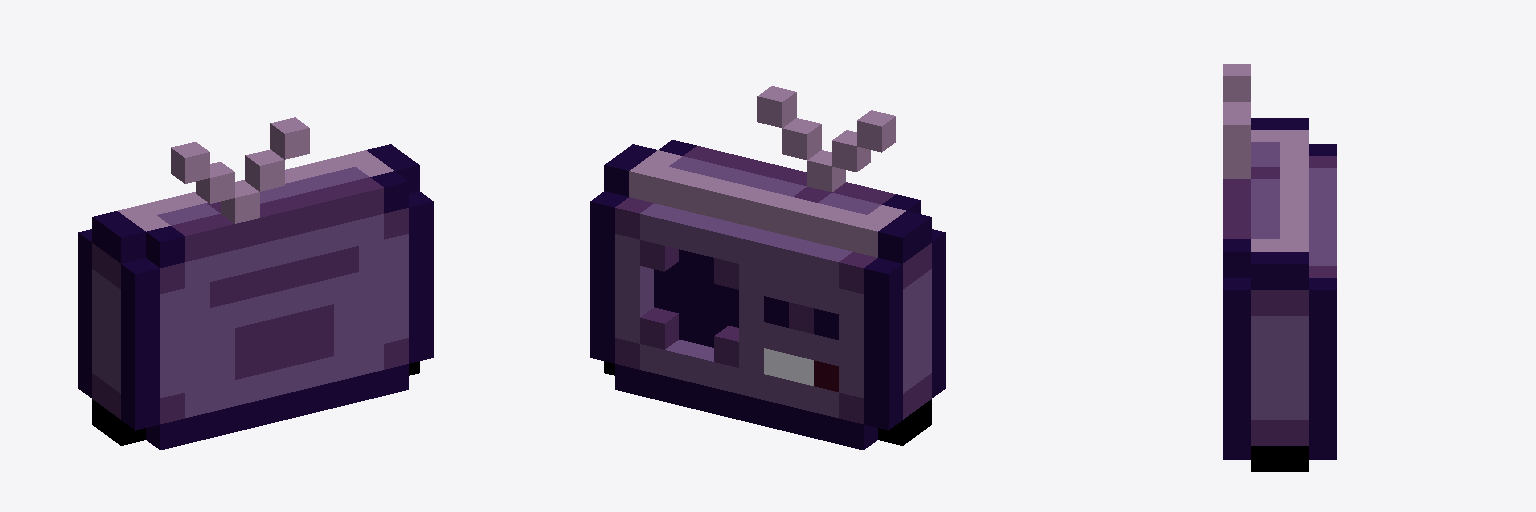
The picture shows the model from 3 angles: view 1: azimuth 30°, elevation 25°; view 2: azimuth 150°, elevation 25°; view 3: azimuth 270°, elevation 25°; orthographic projection.
Parts seen in each view (by area): view 1: object 1; view 2: object 1; view 3: object 1.
Boxes of the visible parts, <box> form: object 1: <box>78,117,433,449</box>; object 1: <box>590,86,945,449</box>; object 1: <box>1223,64,1336,471</box>.
Bounding box in the file's own units: 1.2 × 1.1 × 0.4.
Materials: 1 (1 with a texture image).